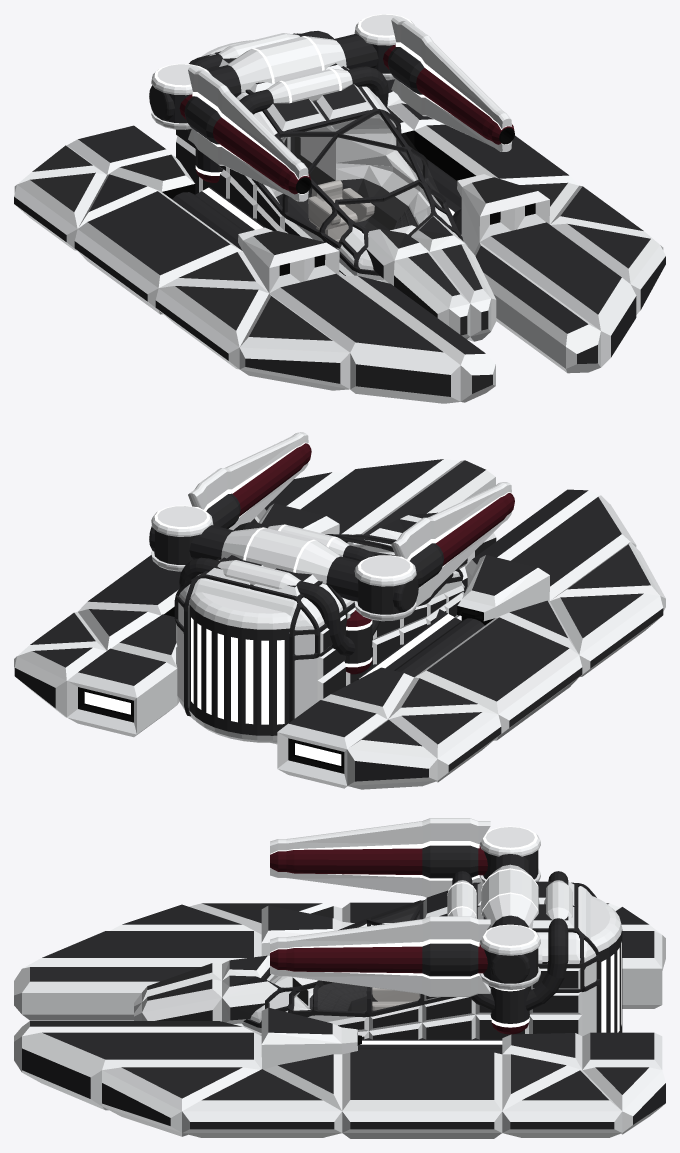
The model's file is hovertank.glb.
3 views of the same model, one above another, from view 1: azimuth 30°, elevation 25°; view 2: azimuth 150°, elevation 25°; view 3: azimuth 270°, elevation 25° (orthographic).
Visible parts, largest first — view 1: HT-310_Wing.R, HT-310_Wing.L, HoverTank-310, HT-310_Pipe, HT-310_GunBarrel.R, HT-310_GunBarrel.L, HT-310_GlassCanvas, HT-310_Wing.Rocket.R, HT-310_Wing.Rocket.L, HT-310_Gun.R, HT-310_Chair, HT-310_Gun.L; view 2: HT-310_Wing.R, HT-310_Wing.L, HoverTank-310, HT-310_Pipe, HT-310_GunBarrel.R, HT-310_GunBarrel.L, HT-310_Door.R, HT-310_DoorCanvas, HT-310_Wing.Rocket.R, HT-310_GlassCanvas, HT-310_Gun.R, HT-310_Door.L (+2 smaller); view 3: HT-310_Wing.L, HT-310_Wing.R, HoverTank-310, HT-310_GunBarrel.L, HT-310_GunBarrel.R, HT-310_Pipe, HT-310_GlassCanvas, HT-310_Wing.Rocket.L, HT-310_Gun.L, HT-310_Wing.Rocket.R, HT-310_Gun.R, HT-310_Door.L (+2 smaller).
Part boxes in pixels (<box>): HT-310_Wing.R: <box>14,125,495,403</box>; HT-310_Wing.L: <box>386,79,665,373</box>; HoverTank-310: <box>172,33,496,341</box>; HT-310_Pipe: <box>187,31,388,182</box>; HT-310_GunBarrel.R: <box>179,66,311,201</box>; HT-310_GunBarrel.L: <box>383,16,514,151</box>; HT-310_GlassCanvas: <box>189,33,463,275</box>; HT-310_Wing.Rocket.R: <box>238,227,339,293</box>; HT-310_Wing.Rocket.L: <box>457,174,549,241</box>; HT-310_Gun.R: <box>149,63,211,129</box>; HT-310_Chair: <box>308,180,374,242</box>; HT-310_Gun.L: <box>354,14,414,80</box>; HT-310_Wing.R: <box>277,489,665,789</box>; HT-310_Wing.L: <box>14,459,495,737</box>; HoverTank-310: <box>176,512,496,744</box>; HT-310_Pipe: <box>179,522,380,674</box>; HT-310_GunBarrel.R: <box>391,482,514,606</box>; HT-310_GunBarrel.L: <box>188,432,311,530</box>; HT-310_Door.R: <box>227,632,289,728</box>; HT-310_DoorCanvas: <box>189,592,291,742</box>; HT-310_Wing.Rocket.R: <box>457,555,549,621</box>; HT-310_GlassCanvas: <box>174,534,463,722</box>; HT-310_Gun.R: <box>354,555,418,621</box>; HT-310_Door.L: <box>189,612,227,723</box>; HT-310_Wing.L: <box>14,1021,665,1138</box>; HT-310_Wing.R: <box>14,902,665,1020</box>; HoverTank-310: <box>134,881,596,1054</box>; HT-310_GunBarrel.L: <box>270,916,490,996</box>; HT-310_GunBarrel.R: <box>270,818,490,897</box>; HT-310_Pipe: <box>447,854,572,1034</box>; HT-310_GlassCanvas: <box>243,882,600,1032</box>; HT-310_Wing.Rocket.L: <box>261,1007,361,1069</box>; HT-310_Gun.L: <box>479,924,540,989</box>; HT-310_Wing.Rocket.R: <box>261,905,353,956</box>; HT-310_Gun.R: <box>479,826,540,881</box>; HT-310_Door.L: <box>600,937,622,1032</box>.
Bounding box in the file's own units: 620 × 266 × 814.
2 materials, 1 textured.
